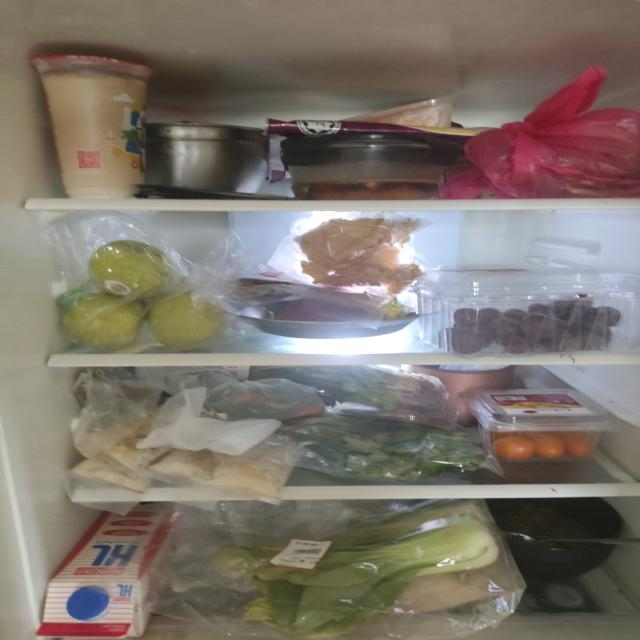apple: (61, 240, 226, 351)
grape: (437, 293, 622, 354)
leafy_greens: (217, 498, 499, 634), (289, 418, 485, 481)
tempeh: (72, 403, 296, 499)
